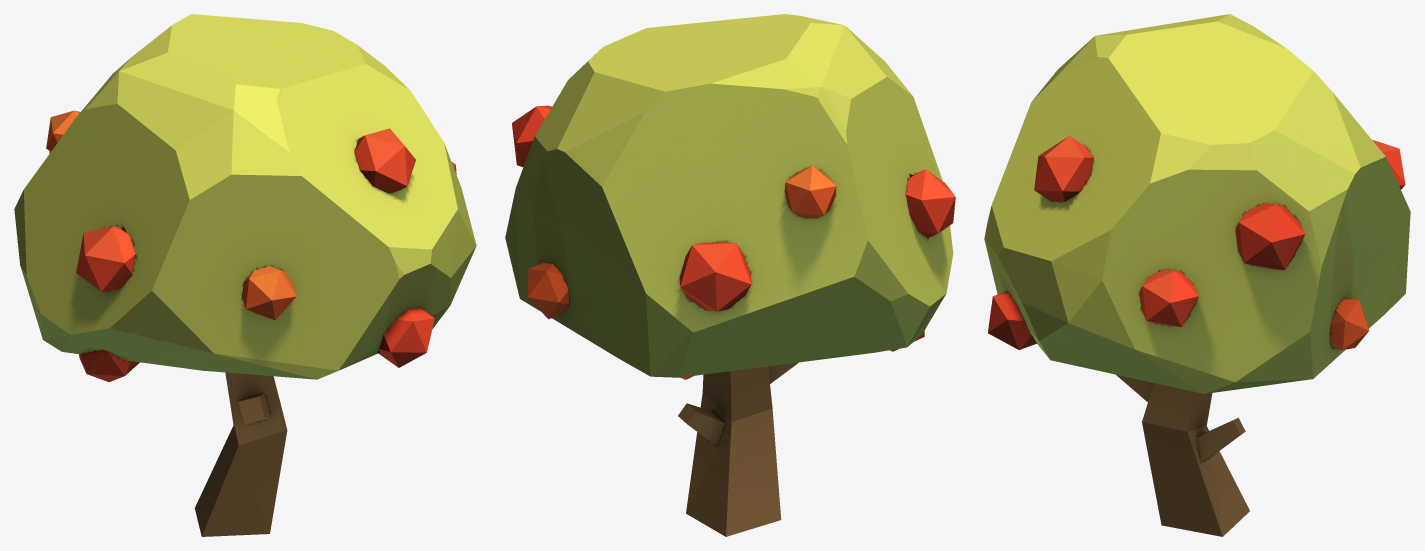
Rendered from apple_tree.glb.
The picture shows the model from 3 angles, left to right: view 1: azimuth 30°, elevation 25°; view 2: azimuth 150°, elevation 25°; view 3: azimuth 270°, elevation 25°; orthographic projection. The views are drawn at different scales.
Parts seen in each view (by area): view 1: apple_tree; view 2: apple_tree; view 3: apple_tree.
Boxes of the visible parts, x1,y1,x2,y2 form: apple_tree: (14, 14, 476, 536); apple_tree: (505, 14, 955, 536); apple_tree: (984, 14, 1410, 536).
Size of the model in its own units: 1.59 by 1.81 by 1.5.
Materials: 1 (1 with a texture image).
